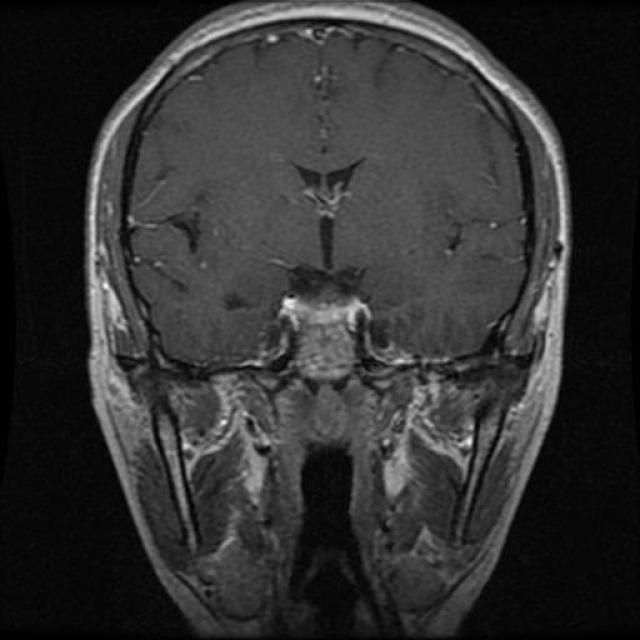pituitary: (274, 276, 383, 398)
